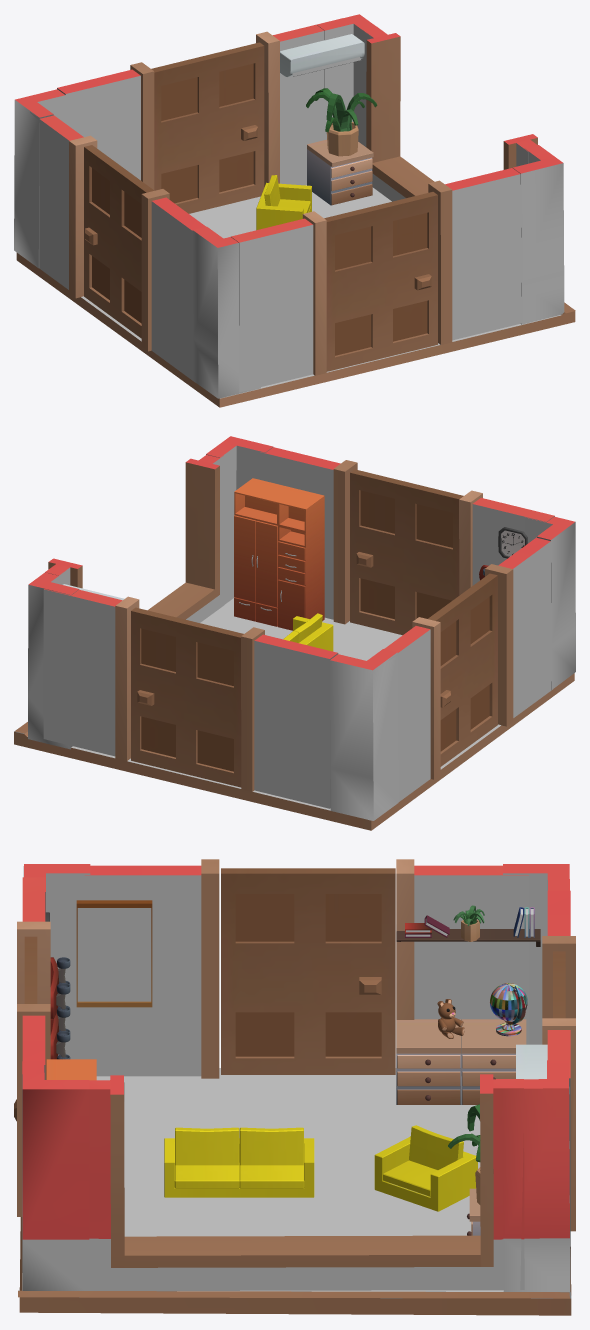
File: COMEDOR.fbx
3 views of the same model, one above another, from view 1: azimuth 30°, elevation 25°; view 2: azimuth 150°, elevation 25°; view 3: azimuth 270°, elevation 25° (orthographic). The views are drawn at different scales.
Visible parts, largest first — view 1: paret_puerta42, puerta19, puerta21, paret_puerta47, paret_puerta43, puerta17, paret_esquina_85, paret_esquina_77, paret_con_ventana_grande20, suelo3, mesita_con_planta1, paret_esquina_73 (+4 smaller); view 2: paret_puerta43, puerta21, paret_puerta47, puerta19, armario2, paret_esquina_73, paret_puerta42, puerta17, suelo3, paret_con_ventana_grande20, paret_esquina_85, paret_esquina_80 (+4 smaller); view 3: paret_puerta47, puerta17, paret_con_ventana_grande20, suelo3, fombra4, sofas1, paret_esquina_77, paret_esquina_80, comod_con_jugere_y_globus1, cuadro4, paret_puerta42, paret_puerta43 (+9 smaller).
Boxes of the visible parts, bbox=[...] form: paret_puerta42: bbox=[231, 168, 521, 392]; puerta19: bbox=[324, 192, 437, 371]; puerta21: bbox=[151, 42, 264, 213]; paret_puerta47: bbox=[30, 112, 205, 381]; paret_puerta43: bbox=[57, 18, 342, 189]; puerta17: bbox=[84, 145, 154, 338]; paret_esquina_85: bbox=[192, 226, 260, 398]; paret_esquina_77: bbox=[513, 145, 564, 324]; paret_con_ventana_grande20: bbox=[363, 26, 537, 201]; suelo3: bbox=[16, 185, 575, 407]; mesita_con_planta1: bbox=[306, 88, 377, 205]; paret_esquina_73: bbox=[14, 89, 65, 268]; paret_puerta43: bbox=[43, 589, 338, 808]; puerta21: bbox=[131, 607, 243, 787]; paret_puerta47: bbox=[384, 537, 552, 802]; puerta19: bbox=[350, 469, 463, 635]; armario2: bbox=[234, 478, 324, 630]; paret_esquina_73: bbox=[330, 649, 398, 820]; paret_puerta42: bbox=[260, 447, 554, 624]; puerta17: bbox=[428, 573, 497, 766]; suelo3: bbox=[14, 598, 574, 830]; paret_con_ventana_grande20: bbox=[45, 455, 224, 622]; paret_esquina_85: bbox=[524, 516, 575, 689]; paret_esquina_80: bbox=[28, 570, 79, 749]; paret_puerta47: bbox=[84, 859, 528, 1078]; puerta17: bbox=[221, 868, 395, 1074]; paret_con_ventana_grande20: bbox=[89, 1074, 524, 1290]; suelo3: bbox=[18, 1068, 571, 1315]; fombra4: bbox=[139, 1108, 480, 1222]; sofas1: bbox=[164, 1125, 477, 1211]; paret_esquina_77: bbox=[22, 1061, 89, 1290]; paret_esquina_80: bbox=[502, 1060, 570, 1291]; comod_con_jugere_y_globus1: bbox=[396, 983, 527, 1104]; cuadro4: bbox=[76, 900, 152, 1007]; paret_puerta42: bbox=[17, 877, 50, 1216]; paret_puerta43: bbox=[542, 890, 575, 1279].
Bounding box in the file's own units: 835 × 364 × 836.
